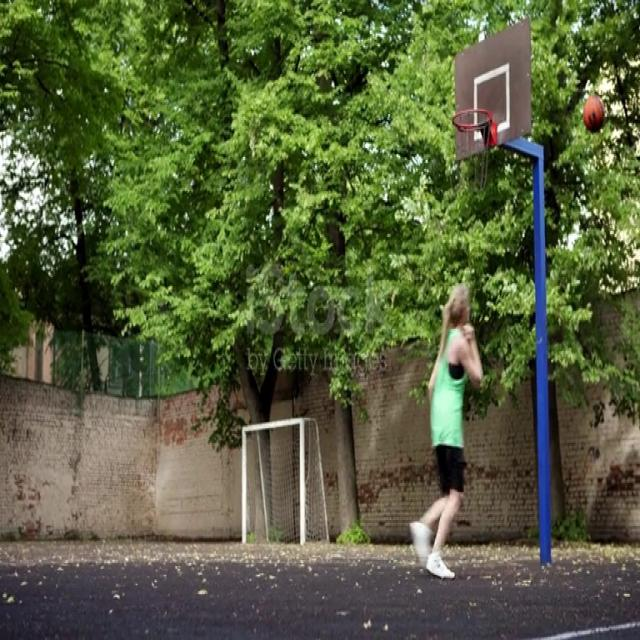ball: (583, 93, 605, 132)
